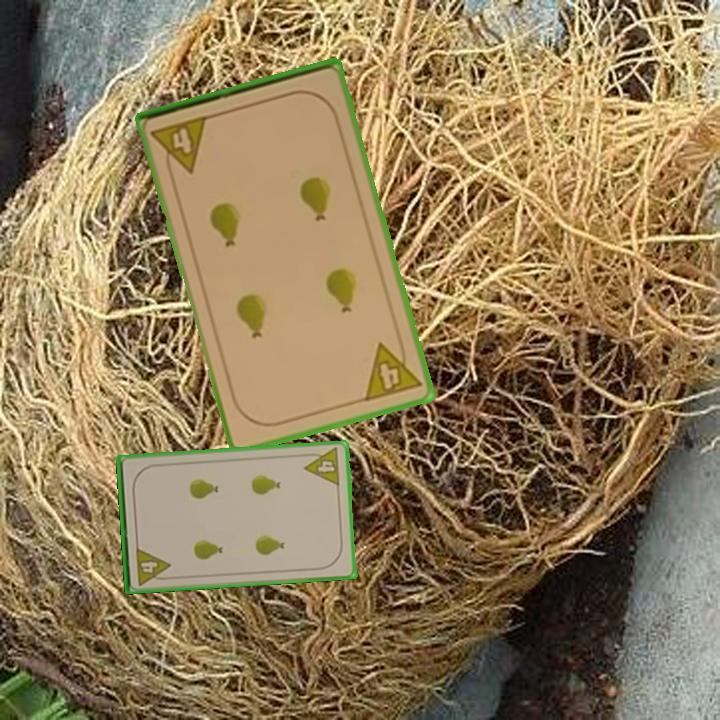4p: (360, 334, 424, 405), (147, 112, 211, 180), (300, 444, 343, 489), (132, 543, 173, 588)
